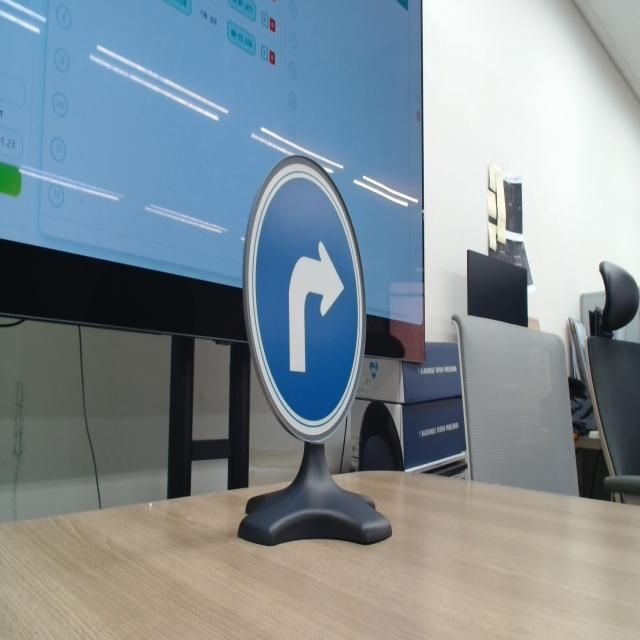right_dierection: (230, 146, 369, 436)
